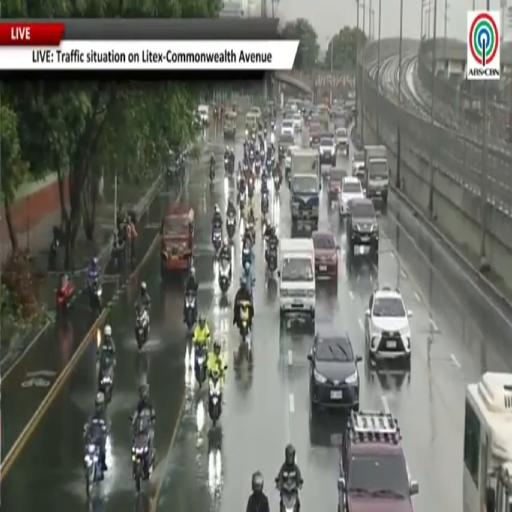bus: (463, 373, 511, 511)
car: (338, 411, 419, 511), (308, 325, 362, 411), (365, 287, 411, 366), (347, 199, 378, 266), (312, 231, 339, 284), (339, 176, 364, 217), (328, 167, 346, 203), (319, 137, 336, 166), (285, 146, 299, 180), (336, 127, 348, 153), (309, 122, 320, 147), (198, 105, 209, 125), (281, 119, 294, 135), (292, 112, 302, 132), (249, 106, 261, 118)
motorcycle: (132, 419, 154, 492), (84, 441, 103, 498), (240, 301, 252, 362), (56, 277, 74, 314), (99, 357, 113, 404), (209, 372, 221, 426), (279, 479, 298, 511), (135, 309, 148, 349), (195, 345, 206, 389), (185, 294, 196, 331), (219, 261, 231, 294), (90, 281, 102, 313), (243, 264, 254, 297), (266, 246, 277, 274), (245, 221, 255, 246), (227, 215, 236, 241), (212, 229, 221, 254), (242, 245, 251, 267), (261, 191, 269, 215), (247, 177, 254, 200), (228, 156, 235, 177), (239, 191, 246, 211), (274, 174, 280, 193), (210, 164, 215, 185), (267, 158, 273, 173), (255, 159, 260, 175), (249, 149, 254, 164), (224, 157, 229, 172), (271, 121, 275, 132)
truck: (289, 148, 321, 229), (365, 146, 389, 206), (223, 110, 237, 140)
